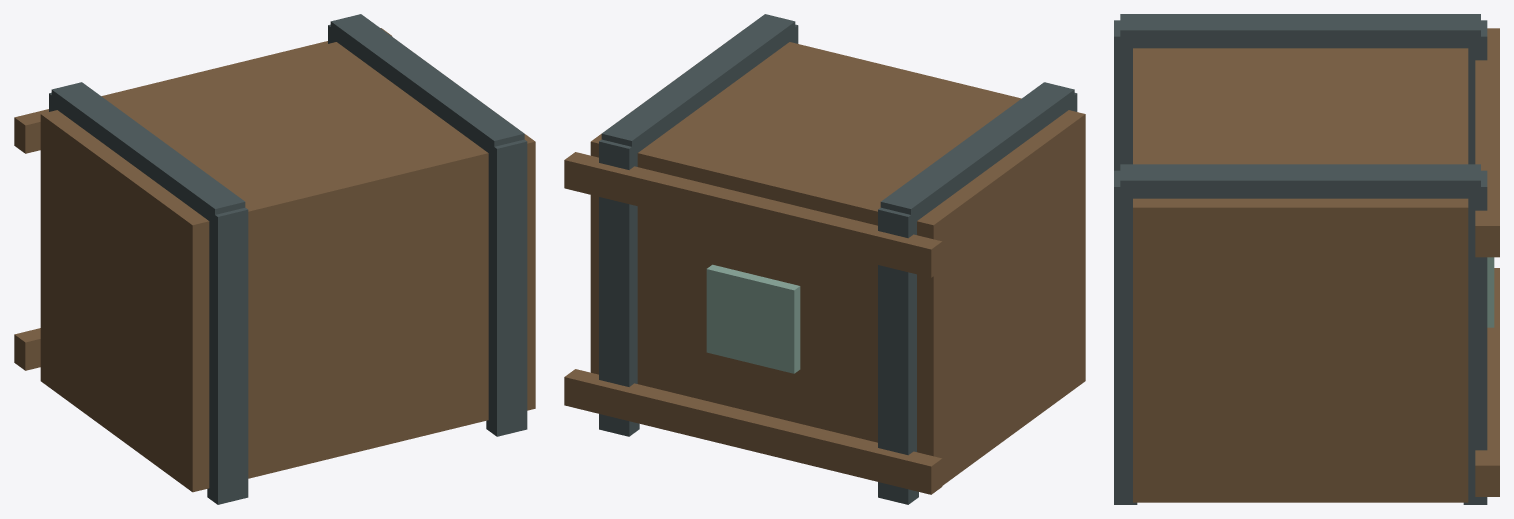
The model's file is SupplyCrate.glb.
3 views of the same model, side by side, from view 1: azimuth 30°, elevation 25°; view 2: azimuth 150°, elevation 25°; view 3: azimuth 270°, elevation 25° (orthographic). The views are drawn at different scales.
Parts seen in each view (by area): view 1: SupplyCrate_wood, SupplyCrate_metal; view 2: SupplyCrate_wood, SupplyCrate_metal, SupplyCrate_accent; view 3: SupplyCrate_wood, SupplyCrate_metal, SupplyCrate_accent.
Boxes of the visible parts, x1=… form: SupplyCrate_wood: x1=14, y1=28, x2=535, y2=492; SupplyCrate_metal: x1=49, y1=14, x2=527, y2=504; SupplyCrate_wood: x1=564, y1=42, x2=1085, y2=494; SupplyCrate_metal: x1=599, y1=14, x2=1077, y2=504; SupplyCrate_accent: x1=706, y1=264, x2=800, y2=373; SupplyCrate_wood: x1=1133, y1=28, x2=1499, y2=502; SupplyCrate_metal: x1=1114, y1=14, x2=1487, y2=504; SupplyCrate_accent: x1=1487, y1=257, x2=1494, y2=327.
Size of the model in its own units: 4.6 by 3.52 by 3.8.
Materials: 3 (3 with a texture image).
